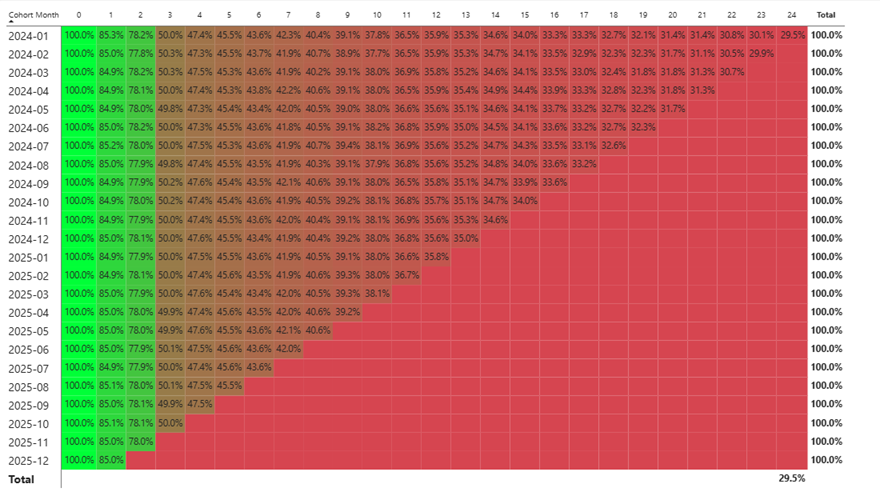

What the dashboard file says about the page in this screenshot:
{"tool":"powerbi","page":{"name":"Customer Cohort","canvas":[1920,1080],"ordinal":0},"visuals":[{"type":"pivotTable","fields":{"Rows":["transactions.Cohort Month Label"],"Columns":["transactions.Months Since Cohort"],"Values":["Count(transactions.Customer_ID)"]},"box":[0,0,1920.4,1080.4],"z":0}]}

Visuals, with their boxes in screenshot pixels (x1, y1, x2, y2), scaled from the page's 1920x1080 canvas onto the 880x496 screenshot:
pivotTable - transactions.Cohort Month Label x transactions.Months Since Cohort: x1=0, y1=0, x2=879, y2=495
